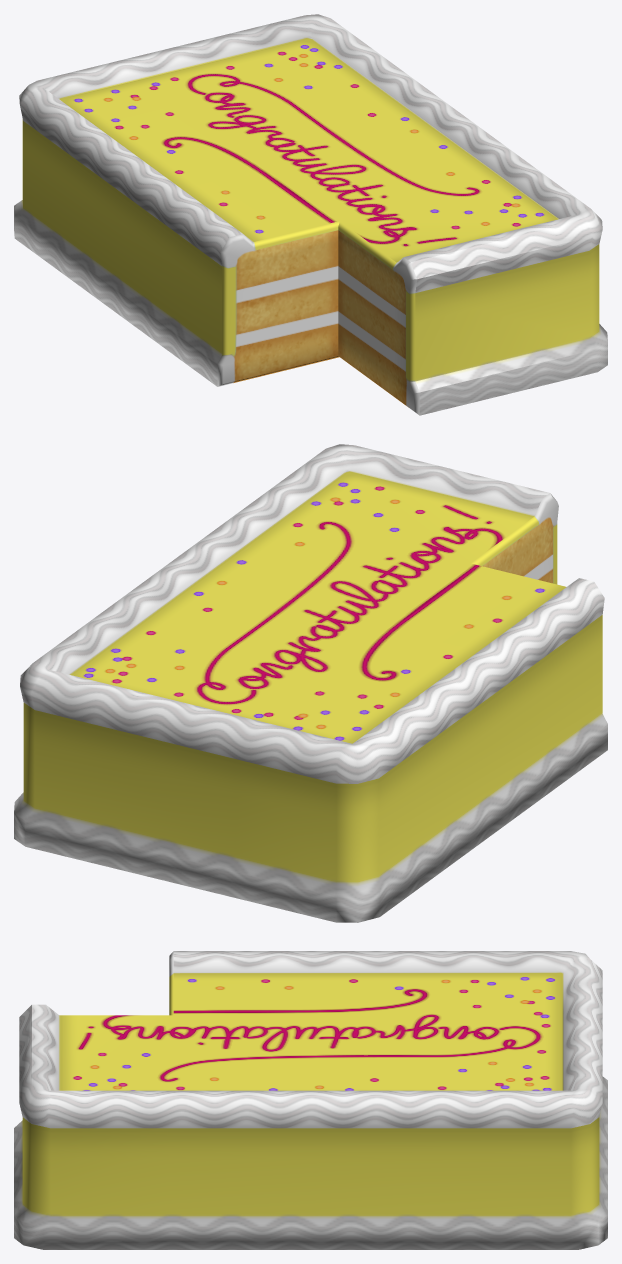
Rendered from Congrats_SheetCake_Cut.fbx.
3 views of the same model, one above another, from view 1: azimuth 30°, elevation 25°; view 2: azimuth 150°, elevation 25°; view 3: azimuth 270°, elevation 25° (orthographic). The views are drawn at different scales.
Parts seen in each view (by area): view 1: Congrats_SheetCake_Cut; view 2: Congrats_SheetCake_Cut; view 3: Congrats_SheetCake_Cut.
Boxes of the visible parts, bbox=[...] form: Congrats_SheetCake_Cut: bbox=[14, 14, 607, 415]; Congrats_SheetCake_Cut: bbox=[14, 444, 607, 922]; Congrats_SheetCake_Cut: bbox=[14, 951, 607, 1249].
Bounding box in the file's own units: 76.45 × 33.06 × 121.
